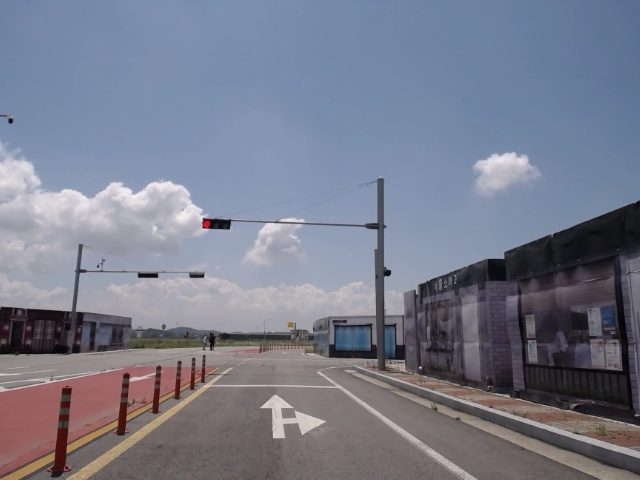red_3: (201, 217, 232, 231)
